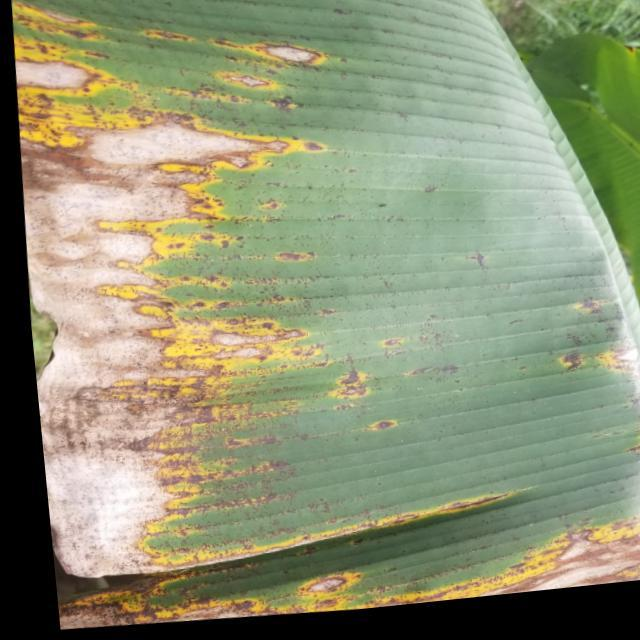Early_rust: (15, 0, 629, 622)
